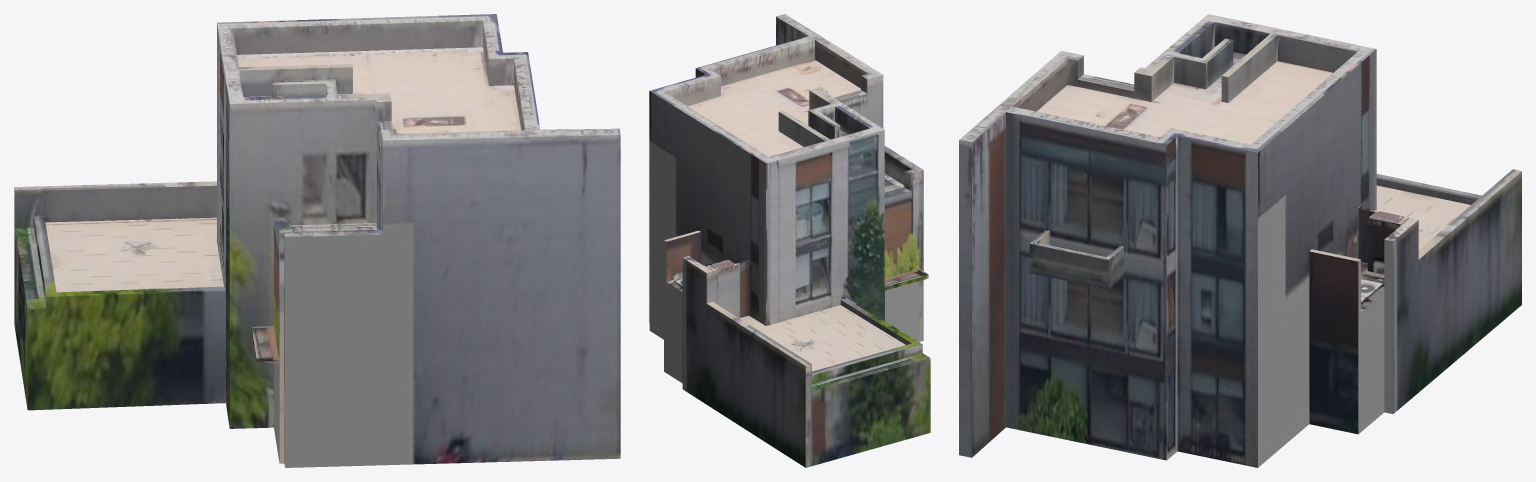
3 renders of one model, left to right at view 1: azimuth 30°, elevation 25°; view 2: azimuth 150°, elevation 25°; view 3: azimuth 270°, elevation 25°, orthographic. The views are drawn at different scales.
Parts seen in each view (by area): view 1: B288134034501063A0; view 2: B288134034501063A0; view 3: B288134034501063A0.
Boxes of the visible parts, x1,y1,x2,y2 form: B288134034501063A0: (14,14,620,467); B288134034501063A0: (649,14,930,467); B288134034501063A0: (959,14,1521,467).
Bounding box in the file's own units: 16.68 × 12.23 × 19.69.
1 material, 1 textured.
